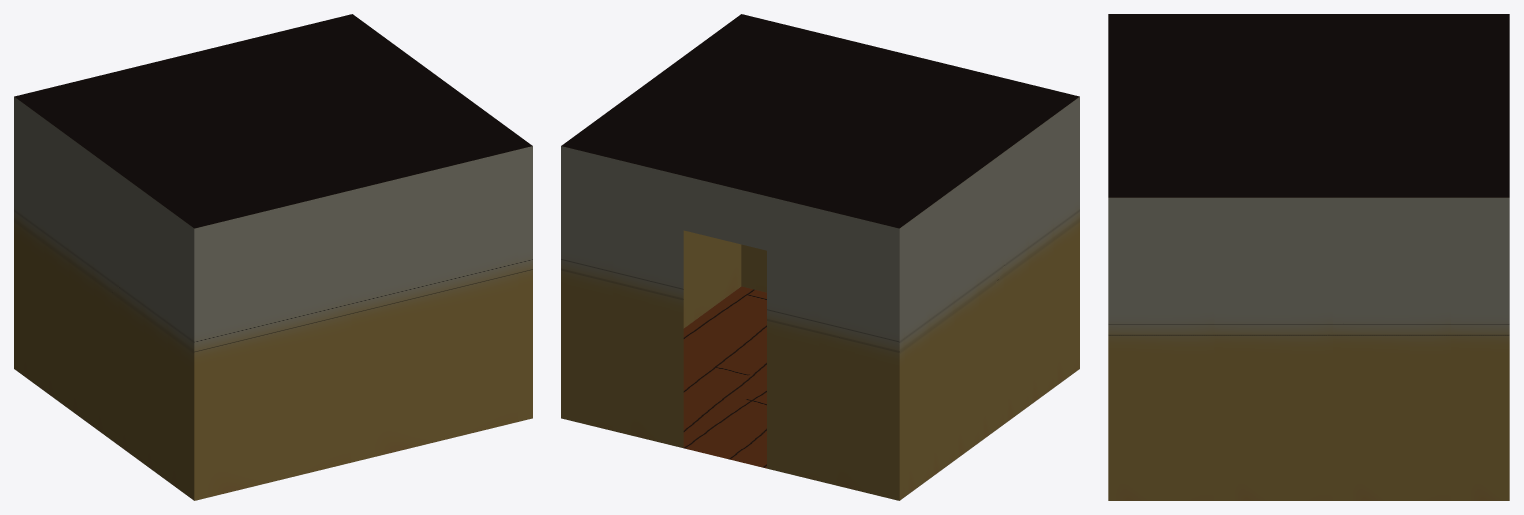
Rendered from flur_oben_2.obj.
The picture shows the model from 3 angles, left to right: view 1: azimuth 30°, elevation 25°; view 2: azimuth 150°, elevation 25°; view 3: azimuth 270°, elevation 25°; orthographic projection. The views are drawn at different scales.
Parts seen in each view (by area): view 1: Cube_Cube_wallpaper, Cube_Cube_ceiling; view 2: Cube_Cube_wallpaper, Cube_Cube_ceiling, Cube_Cube_floor; view 3: Cube_Cube_wallpaper, Cube_Cube_ceiling.
Part boxes in pixels (left/top/right/bottom): Cube_Cube_wallpaper: left=14, top=97, right=532, bottom=500; Cube_Cube_ceiling: left=14, top=14, right=532, bottom=228; Cube_Cube_wallpaper: left=561, top=97, right=1079, bottom=500; Cube_Cube_ceiling: left=561, top=14, right=1079, bottom=228; Cube_Cube_floor: left=683, top=286, right=766, bottom=468; Cube_Cube_wallpaper: left=1108, top=197, right=1509, bottom=500; Cube_Cube_ceiling: left=1108, top=14, right=1509, bottom=197.
Bounding box in the file's own units: 3.25 × 2.5 × 3.
Materials: 3 (2 with a texture image).
